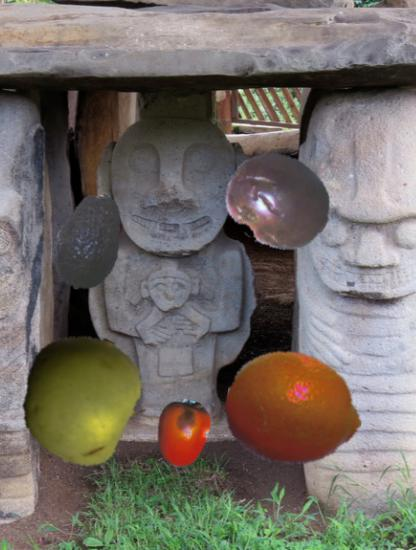Apple: (18, 335, 148, 465)
Avocado: (39, 192, 138, 291)
Kaki: (148, 399, 217, 468)
Passion: (223, 146, 332, 255)
Tangelo: (226, 340, 363, 477)
